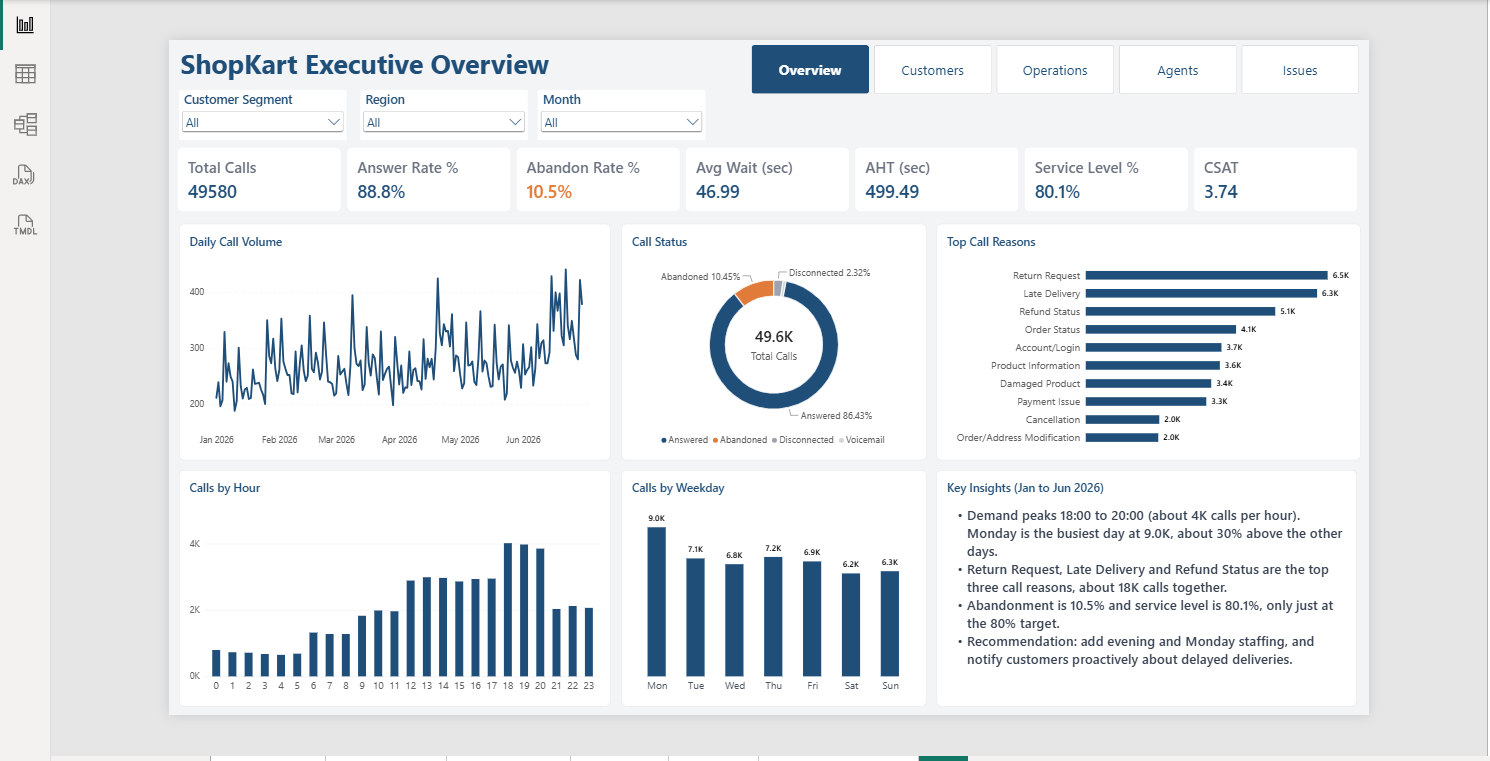

The dashboard page shown, as its layout file describes it:
{"tool":"powerbi","page":{"name":"Overview","canvas":[1920,1080],"ordinal":0},"visuals":[{"type":"textbox","box":[18,8,652,64],"z":0,"group":"g1"},{"type":"slicer","fields":{"Values":["DimDate.Month"]},"box":[590,80.4,268,80],"z":0},{"type":"slicer","fields":{"Values":["DimCustomer.CustomerSegment"]},"box":[16,80.4,268,80],"z":1000},{"type":"slicer","fields":{"Values":["DimLocation.Region"]},"box":[306,80.4,268,80],"z":2000},{"type":"pageNavigator","box":[932,8,974,78],"z":3000},{"type":"cardVisual","fields":{"Data":["allMeasures.Total Calls","allMeasures.Answer Rate %","allMeasures.Abandonment Rate %","allMeasures.Avg Wait (All Calls)","allMeasures.AHT (sec)","allMeasures.Service Level %","allMeasures.CSAT"]},"box":[14,172,1892,102],"z":4000},{"type":"lineChart","title":"Daily Call Volume","fields":{"Category":["DimDate.Date"],"Y":["allMeasures.Total Calls"]},"box":[16,294,690,378],"z":5000},{"type":"donutChart","title":"Call Status ","fields":{"Category":["FactCalls.CallStatus"],"Y":["allMeasures.Total Calls"]},"box":[724,294,488,378],"z":6000},{"type":"clusteredBarChart","title":"Top Call Reasons","fields":{"Category":["DimCallReason.CallReason"],"Y":["allMeasures.Total Calls"]},"box":[1228,294,678,378],"z":7000},{"type":"clusteredColumnChart","title":"Calls by Weekday","fields":{"Category":["DimDate.Enter DayShort"],"Y":["allMeasures.Total Calls"]},"box":[724,688,488,378],"z":8000},{"type":"columnChart","title":"Calls by Hour","fields":{"Category":["FactCalls.CallHour"],"Y":["allMeasures.Total Calls"]},"box":[16,688,690,378],"z":9000},{"type":"textbox","title":"Key Insights (Jan to Jun 2026)","box":[1228,688,672,378],"z":10000},{"type":"group","id":"g1","title":"Group 1","box":[18,8,652,64],"z":11000}]}

Visuals, with their boxes on the page's 1920x1080 design canvas (x1, y1, x2, y2). These are canvas units, not pixel positions in the 1490x761 screenshot, which may show the page scaled, cropped or inside an application window:
textbox: BBox(18, 8, 670, 72)
slicer - DimDate.Month: BBox(590, 80, 858, 160)
slicer - DimCustomer.CustomerSegment: BBox(16, 80, 284, 160)
slicer - DimLocation.Region: BBox(306, 80, 574, 160)
pageNavigator: BBox(932, 8, 1906, 86)
cardVisual - allMeasures.Total Calls x allMeasures.Answer Rate %: BBox(14, 172, 1906, 274)
"Daily Call Volume" lineChart: BBox(16, 294, 706, 672)
"Call Status " donutChart: BBox(724, 294, 1212, 672)
"Top Call Reasons" clusteredBarChart: BBox(1228, 294, 1906, 672)
"Calls by Weekday" clusteredColumnChart: BBox(724, 688, 1212, 1066)
"Calls by Hour" columnChart: BBox(16, 688, 706, 1066)
"Key Insights (Jan to Jun 2026)" textbox: BBox(1228, 688, 1900, 1066)
"Group 1" group: BBox(18, 8, 670, 72)
